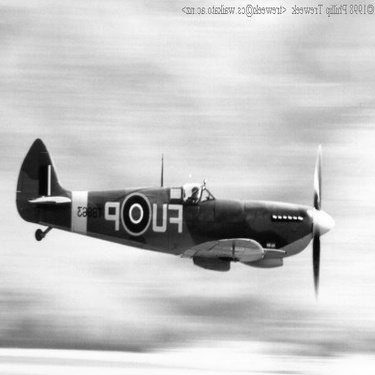airplane: (1, 126, 337, 303)
